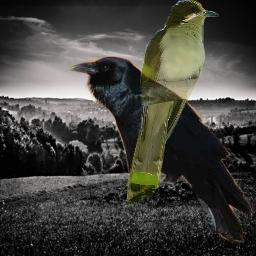Crow: (69, 56, 253, 243)
Cuckoo: (126, 0, 219, 207)
